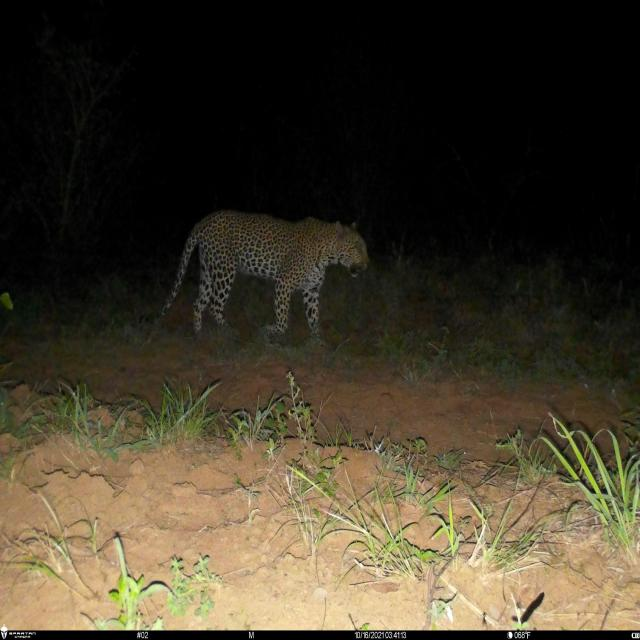Leopard: (142, 198, 379, 352)
